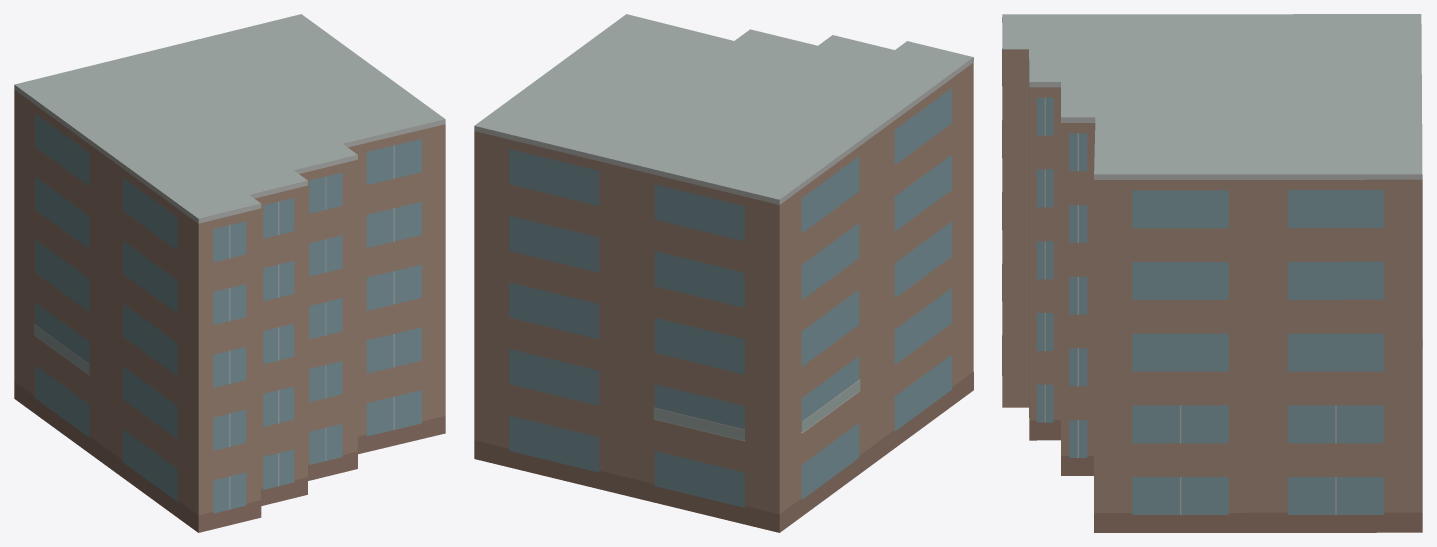
The model's file is survey-upis-32755180.glb.
3 views of the same model, side by side, from view 1: azimuth 30°, elevation 25°; view 2: azimuth 150°, elevation 25°; view 3: azimuth 270°, elevation 25° (orthographic). The views are drawn at different scales.
Visible parts, largest first — view 1: survey-upis-32755180.tmp; view 2: survey-upis-32755180.tmp; view 3: survey-upis-32755180.tmp.
Part boxes in pixels (x1=…): survey-upis-32755180.tmp: x1=14, y1=14, x2=445, y2=532; survey-upis-32755180.tmp: x1=474, y1=14, x2=973, y2=532; survey-upis-32755180.tmp: x1=1002, y1=14, x2=1422, y2=532.
Bounding box in the file's own units: 15 × 15.6 × 16.59.
